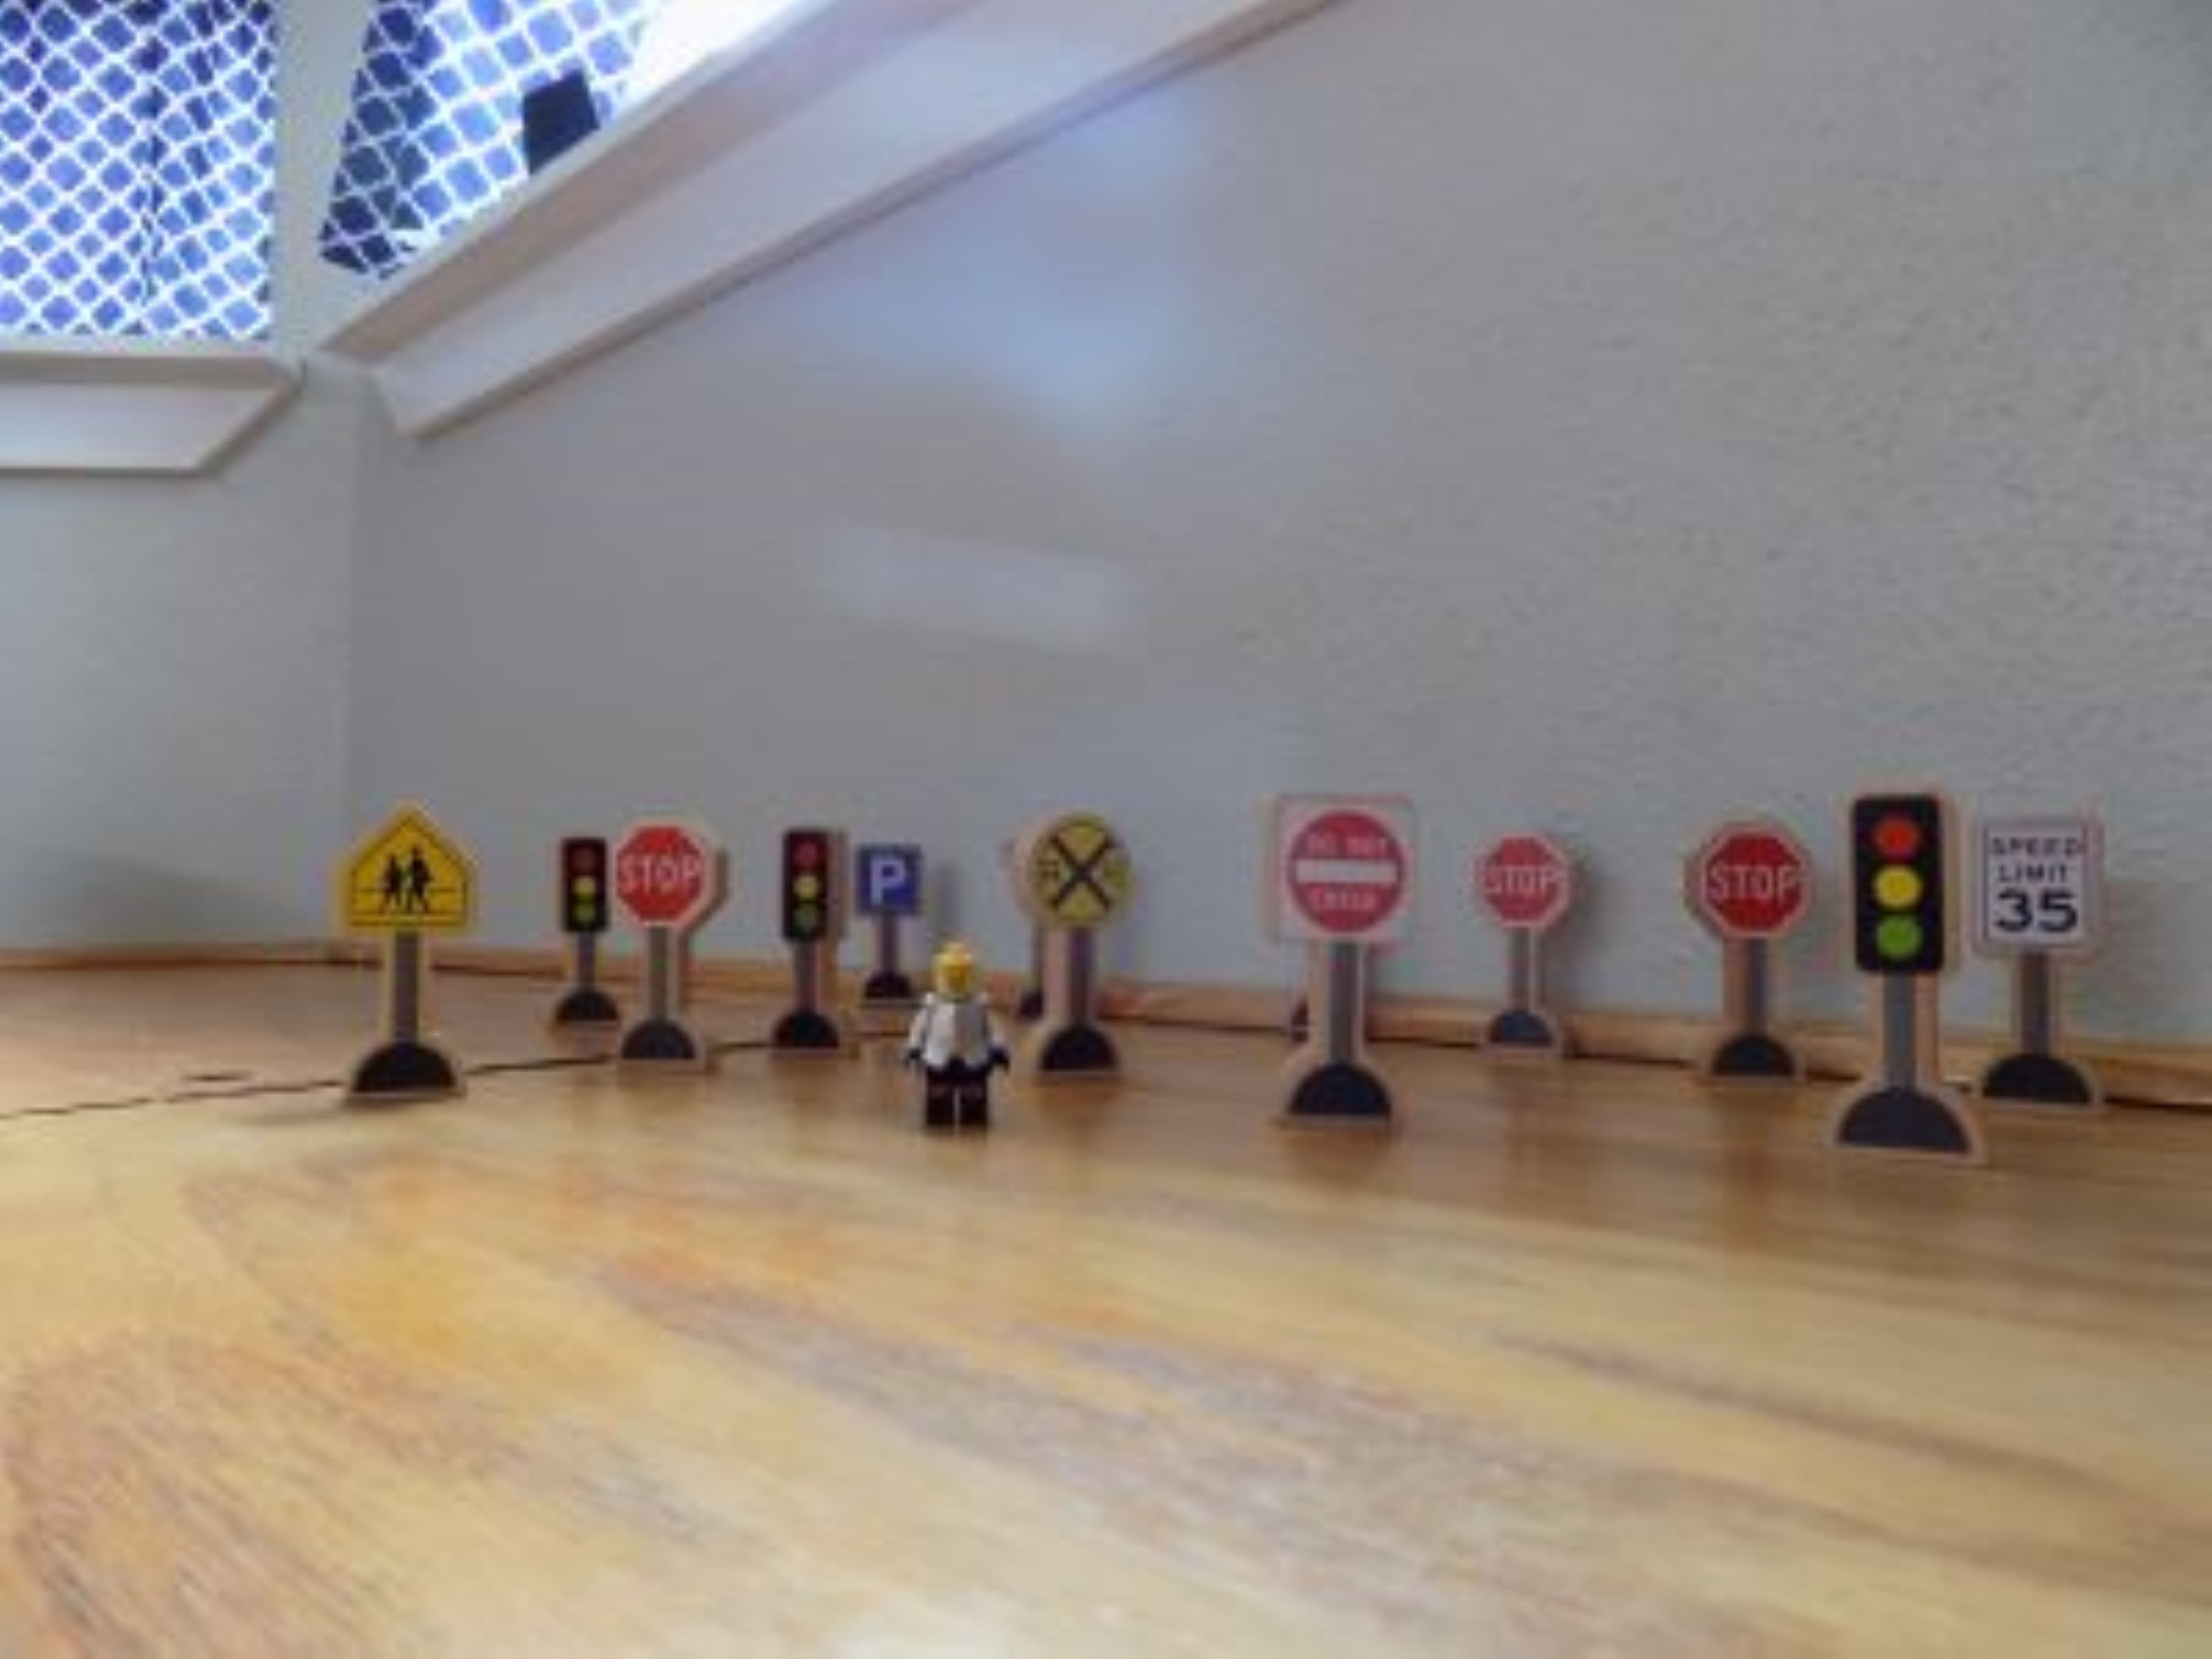Do Not Enter: (1272, 795, 1425, 951)
Parking Sign: (861, 848, 921, 921)
Pedestrians: (327, 792, 494, 946)
Person: (911, 946, 1016, 1127)
Rail Road Sign: (1016, 811, 1145, 936)
Red Traffic Light: (1850, 795, 1955, 989), (780, 828, 839, 951), (564, 838, 612, 938)
Speed Limit 35: (1974, 826, 2103, 957)
Stop Sign: (1681, 816, 1820, 947), (617, 812, 724, 936), (1473, 828, 1577, 936)
